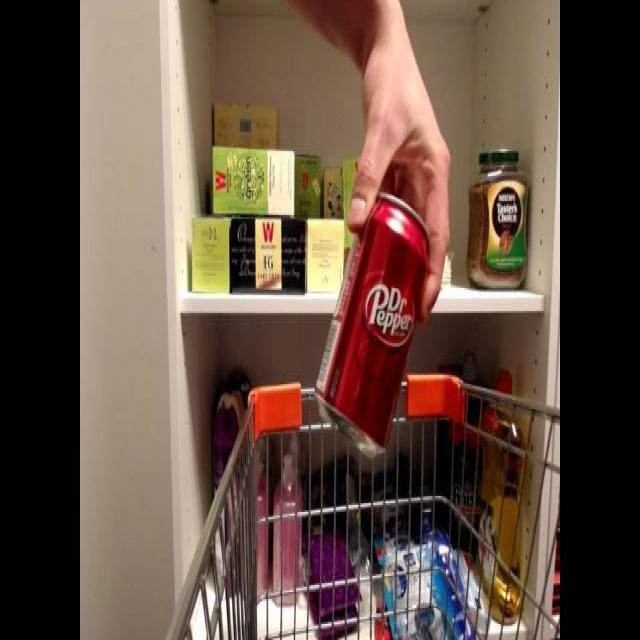Dr Pepper: (312, 178, 438, 466)
